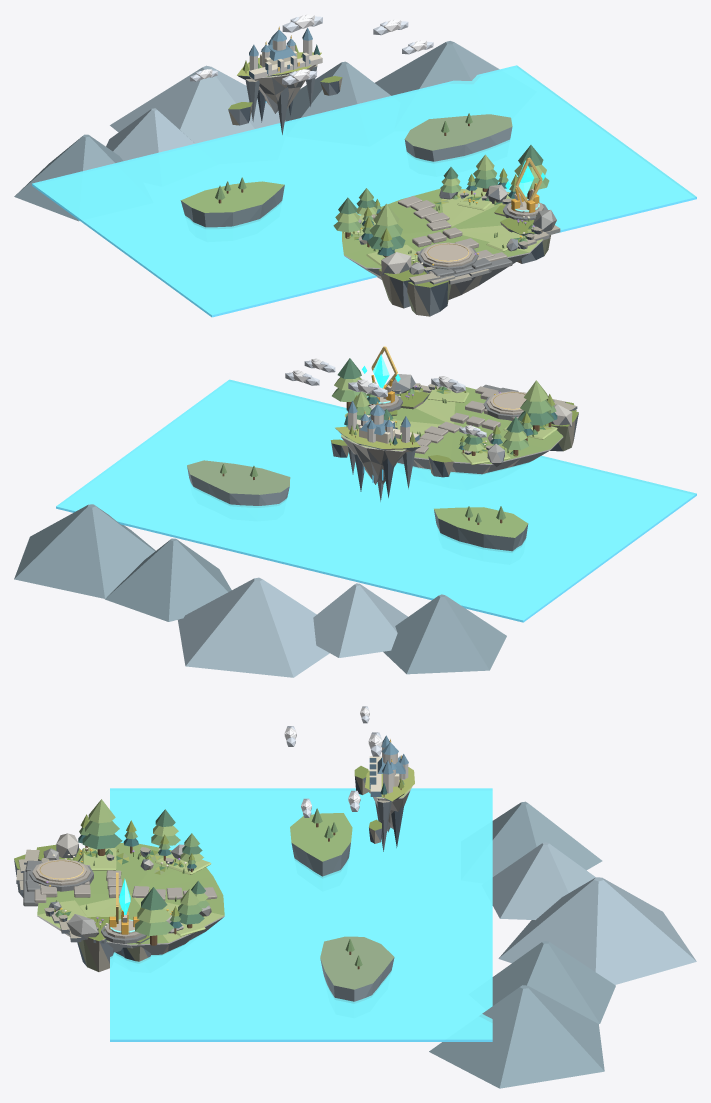
Rendered from WaypointTerrace_FullEnvironment.fbx.
The picture shows the model from 3 angles, top to bottom: view 1: azimuth 30°, elevation 25°; view 2: azimuth 150°, elevation 25°; view 3: azimuth 270°, elevation 25°; orthographic projection. The views are drawn at different scales.
Visible parts, largest first — view 1: ENV_DistantWater, DST_Mountain_04, ENV_MainIsland_GrassCap, DST_ValleyCliff_Right, DST_ValleyCliff_Left, DST_Mountain_03, ENR_Foreground_CliffMass, DST_Mountain_02, DST_Mountain_00, DST_Mountain_01, DST_ENR_FloatingIsland_GrandSilhouette, DST_ENR_Academy_MonumentalRim (+7 smaller); view 2: ENV_DistantWater, DST_Mountain_04, DST_Mountain_03, DST_Mountain_00, DST_Mountain_02, DST_Mountain_01, ENV_MainIsland_GrassCap, DST_ValleyCliff_Right, DST_ValleyCliff_Left, DST_ENR_FloatingIsland_GrandSilhouette, DST_FloatingIsland_Rock, ENV_MainIsland_Faceted (+5 smaller); view 3: ENV_DistantWater, DST_Mountain_04, DST_Mountain_03, ENV_MainIsland_GrassCap, DST_Mountain_02, DST_Mountain_01, DST_Mountain_00, DST_ValleyCliff_Right, DST_ValleyCliff_Left, ENR_Foreground_CliffMass, DST_ENR_FloatingIsland_GrandSilhouette, ENR_Conifer_SideFrame (+5 smaller).
Part boxes in pixels (box(x1,y1,x2,y2)): ENV_DistantWater: box(32, 65, 696, 317); DST_Mountain_04: box(110, 65, 285, 143); ENV_MainIsland_GrassCap: box(342, 188, 542, 267); DST_ValleyCliff_Right: box(404, 114, 512, 162); DST_ValleyCliff_Left: box(180, 181, 284, 228); DST_Mountain_03: box(375, 41, 499, 95); ENR_Foreground_CliffMass: box(378, 205, 550, 316); DST_Mountain_02: box(285, 61, 390, 121); DST_Mountain_00: box(14, 134, 123, 221); DST_Mountain_01: box(106, 108, 194, 160); DST_ENR_FloatingIsland_GrandSilhouette: box(237, 52, 321, 134); DST_ENR_Academy_MonumentalRim: box(249, 27, 322, 79); ENV_DistantWater: box(56, 379, 696, 622); DST_Mountain_04: box(178, 577, 329, 677); DST_Mountain_03: box(14, 504, 155, 598); DST_Mountain_00: box(383, 594, 506, 674); DST_Mountain_02: box(105, 538, 231, 621); DST_Mountain_01: box(313, 583, 407, 657); ENV_MainIsland_GrassCap: box(345, 386, 563, 463); DST_ValleyCliff_Right: box(187, 460, 290, 507); DST_ValleyCliff_Left: box(434, 507, 528, 552); DST_ENR_FloatingIsland_GrandSilhouette: box(335, 426, 420, 501); DST_FloatingIsland_Rock: box(341, 436, 406, 484); ENV_MainIsland_Faceted: box(345, 416, 563, 474); ENV_DistantWater: box(110, 788, 492, 1041); DST_Mountain_04: box(498, 877, 696, 984); DST_Mountain_03: box(429, 985, 604, 1088); ENV_MainIsland_GrassCap: box(37, 843, 224, 944); DST_Mountain_02: box(492, 941, 615, 1023); DST_Mountain_01: box(492, 842, 595, 919); DST_Mountain_00: box(492, 801, 602, 876); DST_ValleyCliff_Right: box(320, 936, 394, 1003); DST_ValleyCliff_Left: box(290, 813, 352, 877); ENR_Foreground_CliffMass: box(14, 844, 150, 971); DST_ENR_FloatingIsland_GrandSilhouette: box(365, 767, 414, 851); ENR_Conifer_SideFrame: box(78, 814, 196, 934).
Bounding box in the file's own units: 58.71 × 21.52 × 64.29.
